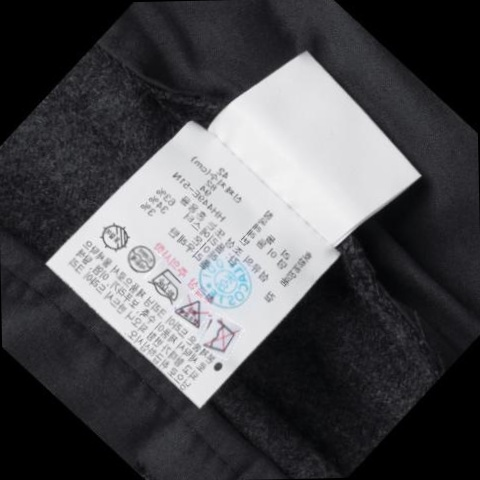DN_bleach: (173, 299, 206, 329)
DN_wash: (205, 321, 235, 356)
dry_clean_petrol_only: (122, 242, 156, 277)
iron_low: (148, 268, 180, 304)
line_dry_in_shade: (96, 219, 131, 250)
